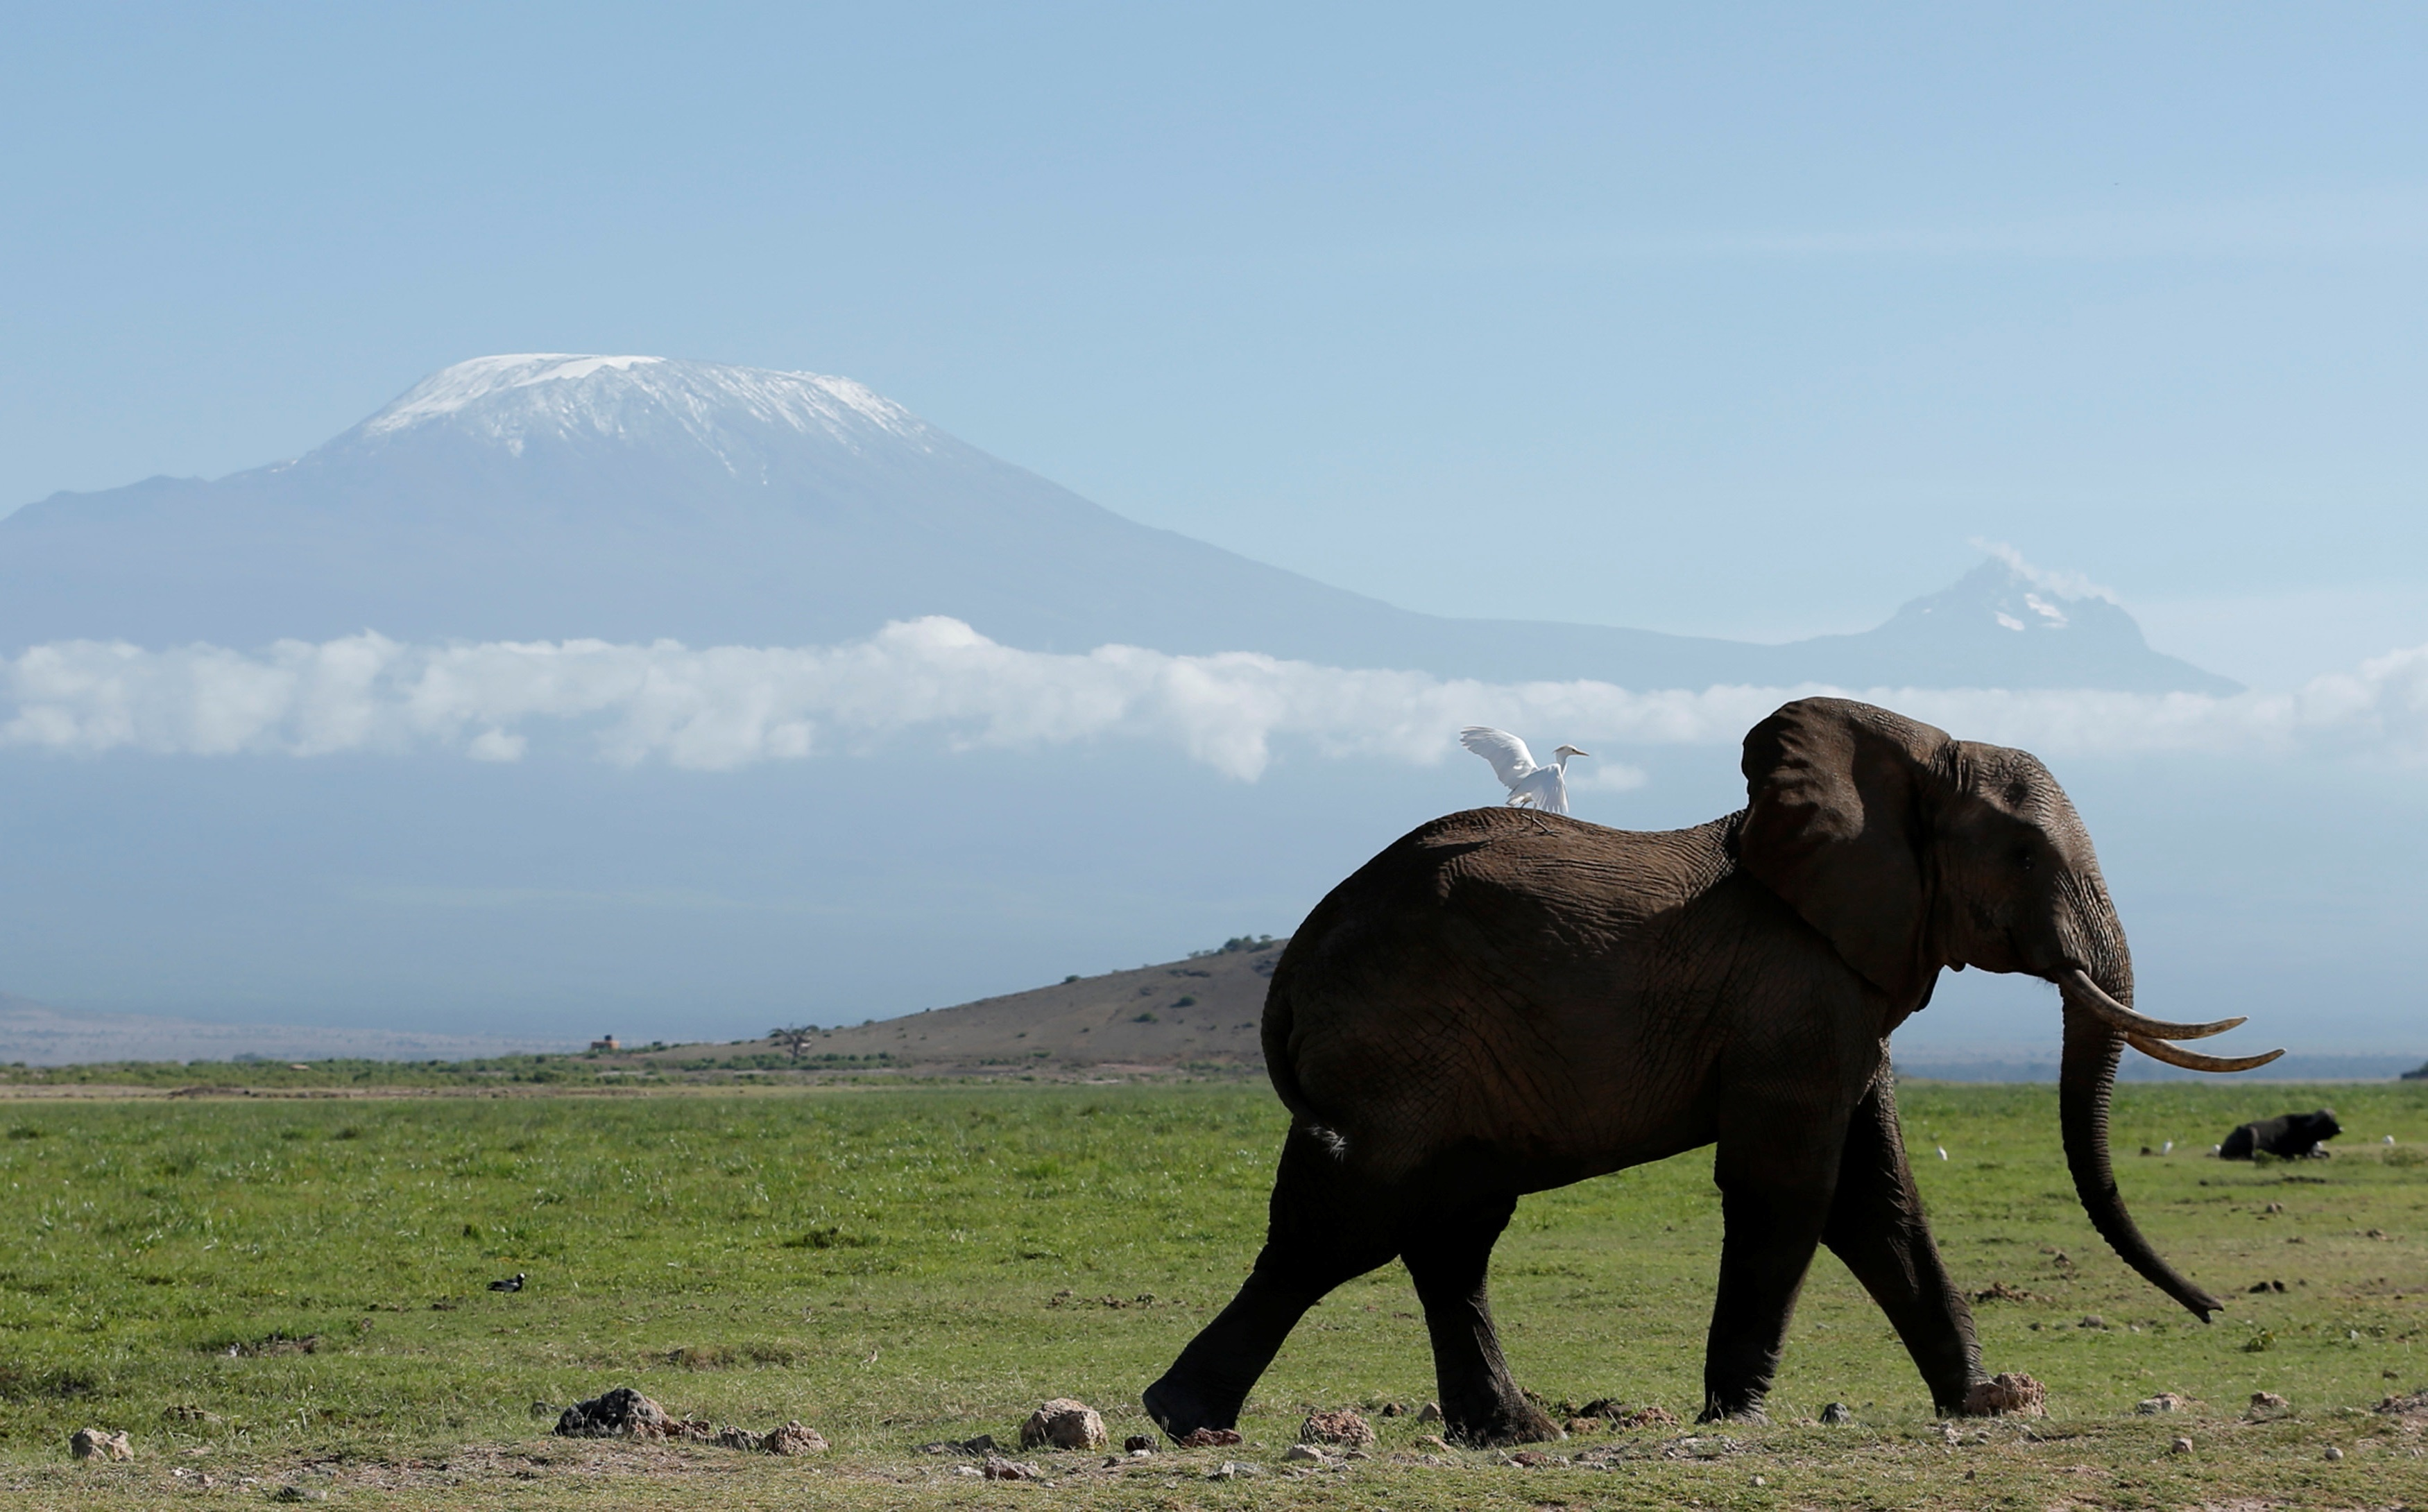elephant: (1150, 690, 2233, 1435)
